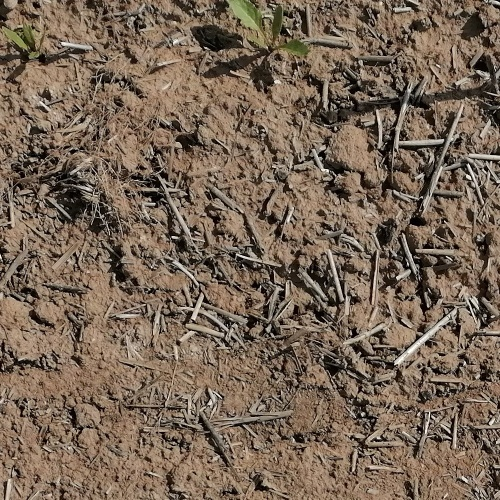beet: (223, 0, 311, 55), (1, 19, 48, 62)
